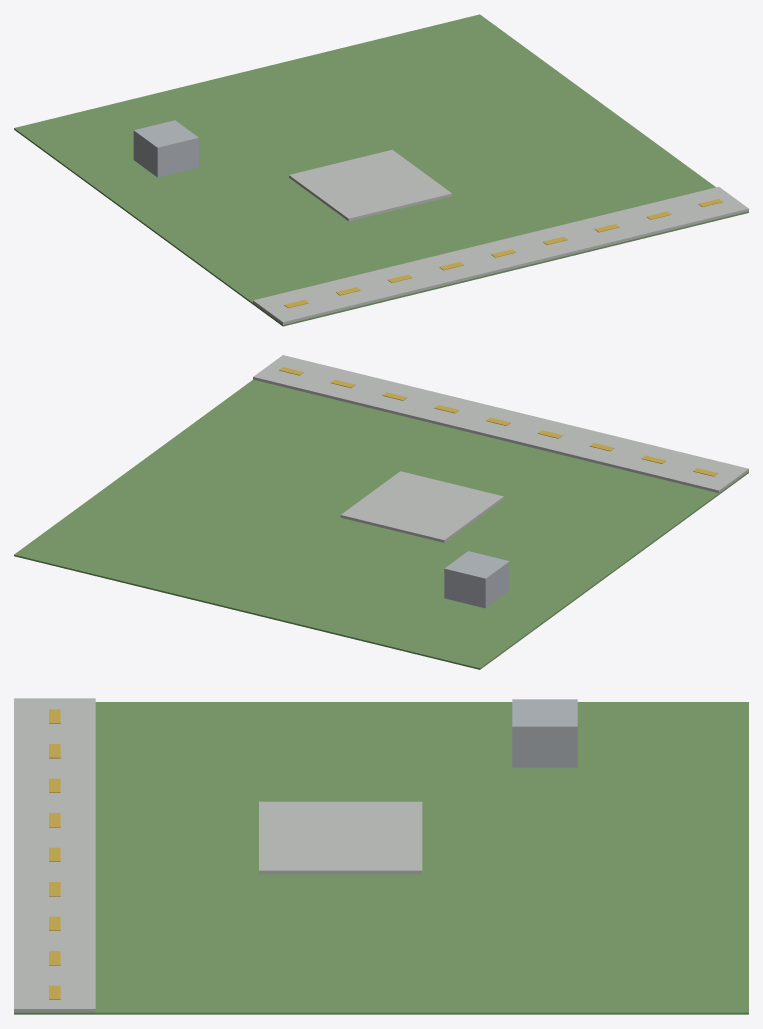
The model's file is stage_02.glb.
3 views of the same model, one above another, from view 1: azimuth 30°, elevation 25°; view 2: azimuth 150°, elevation 25°; view 3: azimuth 270°, elevation 25° (orthographic). The views are drawn at different scales.
Parts seen in each view (by area): view 1: geometry_0; view 2: geometry_0; view 3: geometry_0.
Part boxes in pixels (left/top/right/bottom): geometry_0: left=14, top=14, right=748, bottom=326; geometry_0: left=14, top=355, right=748, bottom=669; geometry_0: left=14, top=698, right=748, bottom=1014.
Bounding box in the file's own units: 9 × 0.58 × 9.
